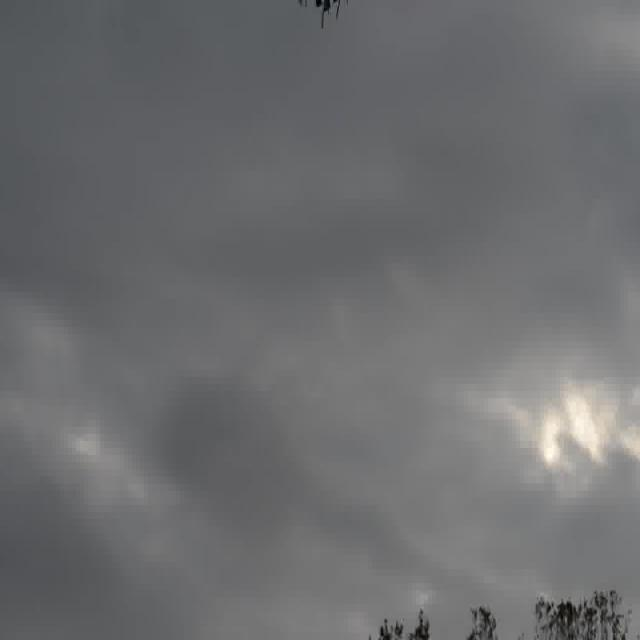drones: (288, 2, 359, 37)
